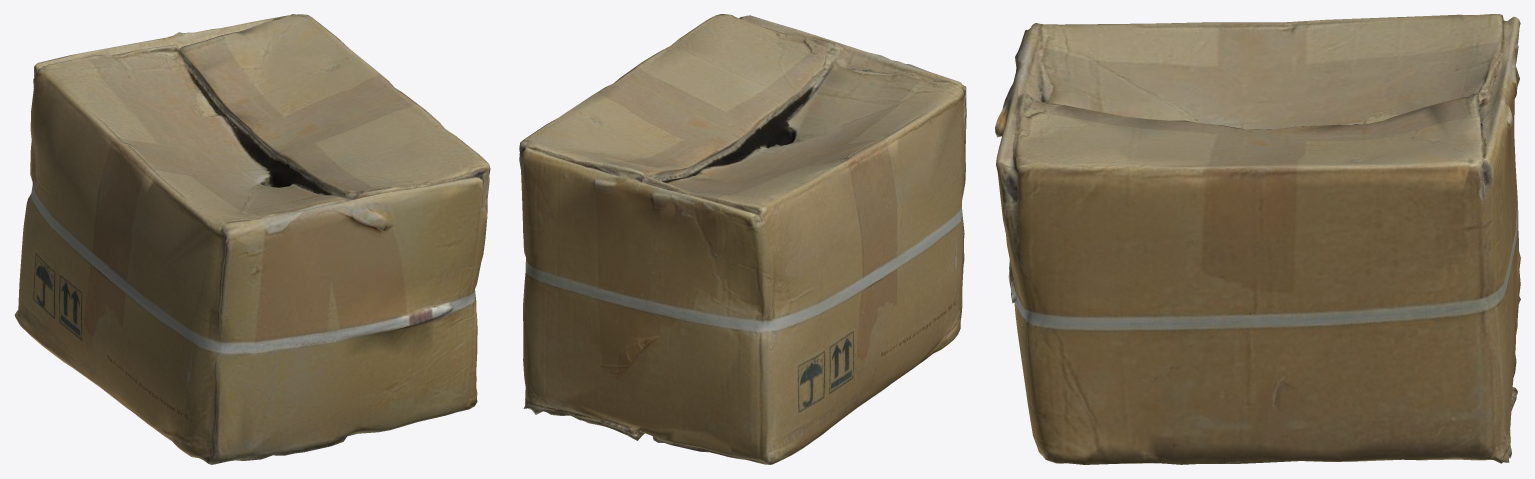
Rendered from prop_box.glb.
3 views of the same model, side by side, from view 1: azimuth 30°, elevation 25°; view 2: azimuth 150°, elevation 25°; view 3: azimuth 270°, elevation 25° (orthographic). The views are drawn at different scales.
Visible parts, largest first — view 1: cardboard_box_01; view 2: cardboard_box_01; view 3: cardboard_box_01.
Part boxes in pixels (x1,y1,x2,y2): cardboard_box_01: (14,14,490,464); cardboard_box_01: (519,14,966,464); cardboard_box_01: (995,14,1520,464).
Size of the model in its own units: 0.3869 by 0.3418 by 0.5159.
Materials: 1 (1 with a texture image).
